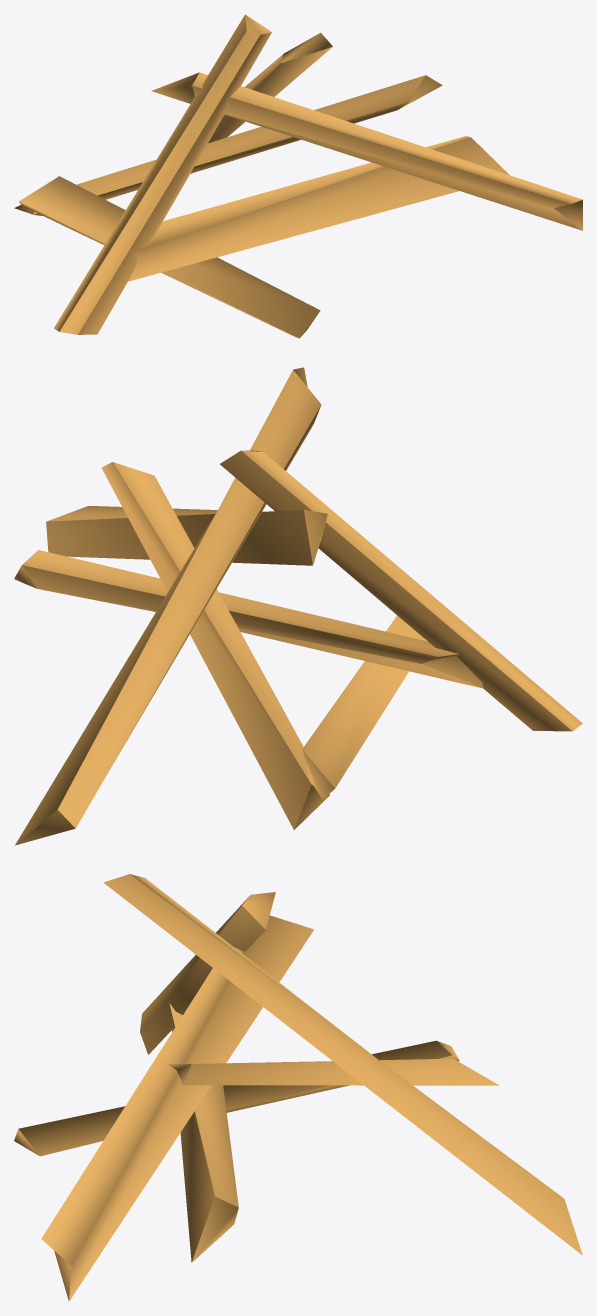
File: Fire_wood.fbx
The picture shows the model from 3 angles, top to bottom: view 1: azimuth 30°, elevation 25°; view 2: azimuth 150°, elevation 25°; view 3: azimuth 270°, elevation 25°; orthographic projection. The views are drawn at different scales.
Parts seen in each view (by area): view 1: Fire_wood; view 2: Fire_wood; view 3: Fire_wood.
Boxes of the visible parts, x1,y1,x2,y2 form: Fire_wood: (14,14,582,338); Fire_wood: (14,367,582,845); Fire_wood: (14,874,582,1301).
Size of the model in its own units: 72.45 by 40.44 by 59.61.
